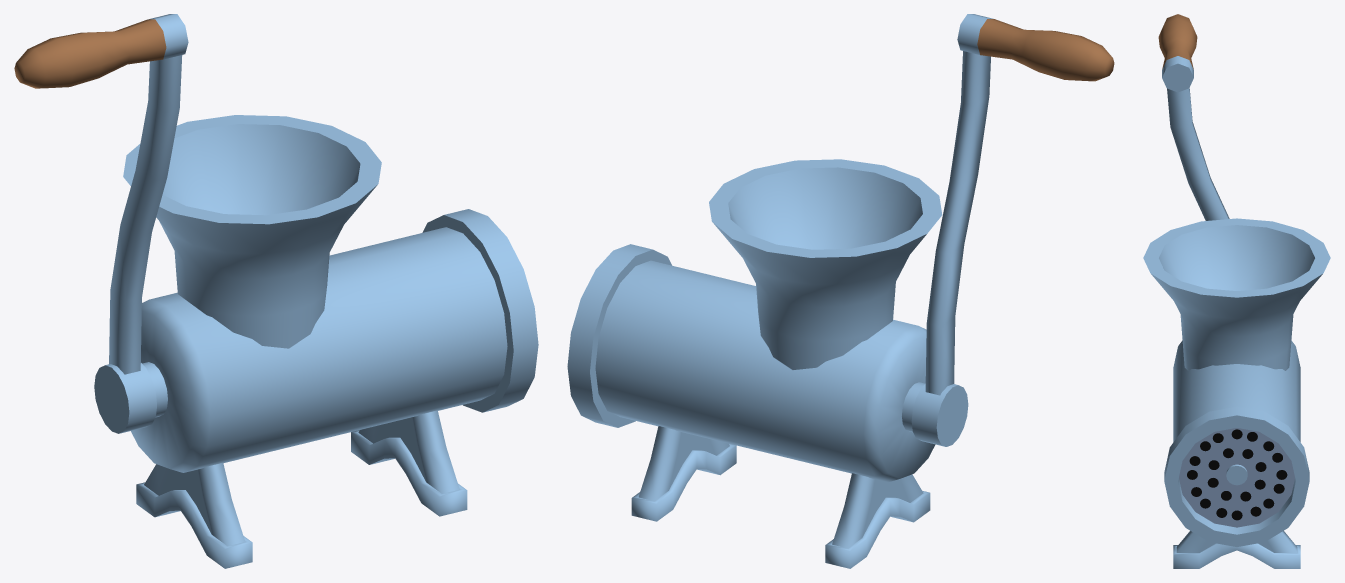
Rendered from Manual Meat Grinder.fbx.
3 renders of one model, left to right at view 1: azimuth 30°, elevation 25°; view 2: azimuth 150°, elevation 25°; view 3: azimuth 270°, elevation 25°, orthographic. The views are drawn at different scales.
Visible parts, largest first — view 1: Grinder, Crank; view 2: Grinder, Crank; view 3: Grinder, Crank.
Boxes of the visible parts, bbox=[...] form: Grinder: bbox=[123, 115, 538, 568]; Crank: bbox=[14, 14, 188, 433]; Grinder: bbox=[567, 159, 942, 568]; Crank: bbox=[911, 14, 1114, 446]; Grinder: bbox=[1143, 218, 1330, 568]; Crank: bbox=[1158, 14, 1229, 220].
Size of the model in its own units: 0.3581 by 0.3816 by 0.159.
